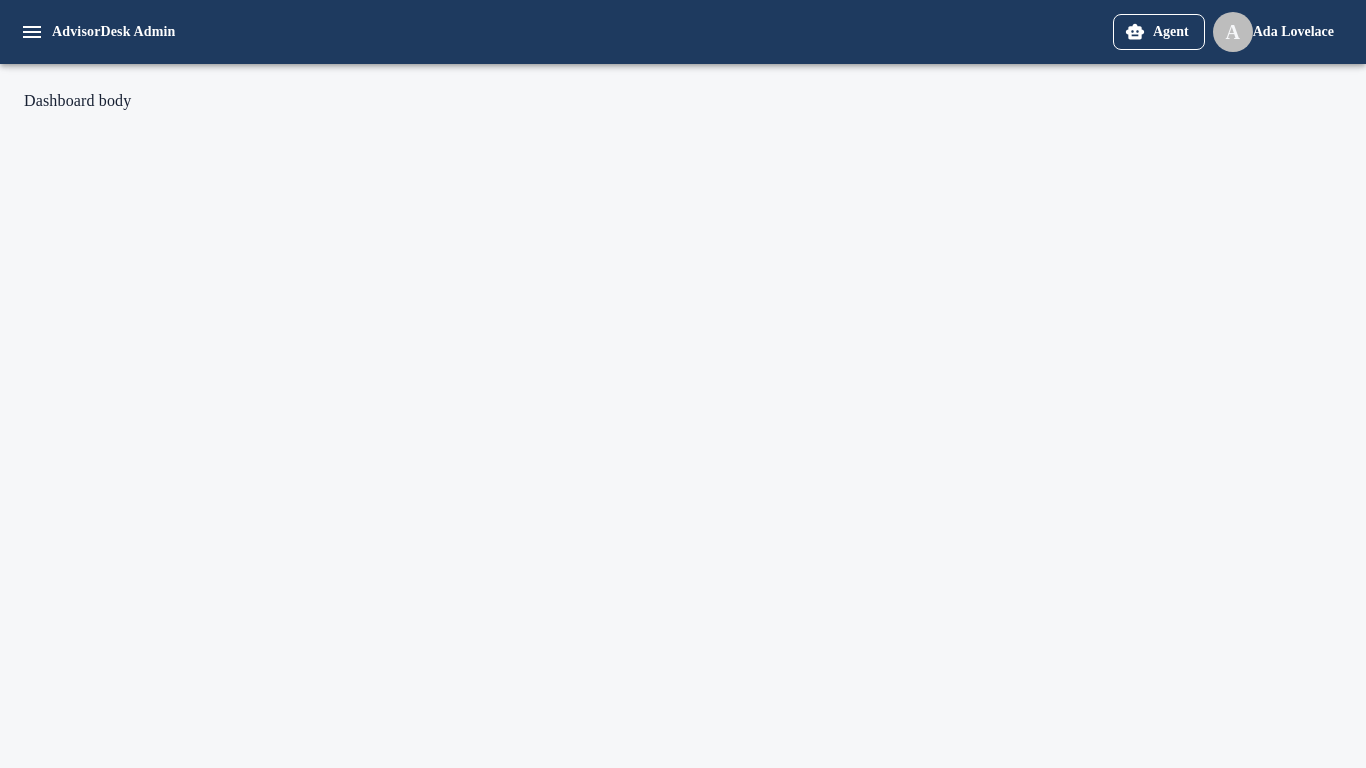
Scenario: AppShell below the md breakpoint › hides the nav behind an "Open navigation" button; it opens on click and closes after navigating
The width and height of the screenshot is (1366, 768).
Expected: the text "Dashboard body" is shown, [24, 92, 131, 109]
Click the button named "Open navigation".
click(32, 32)  # box [12, 12, 52, 52]
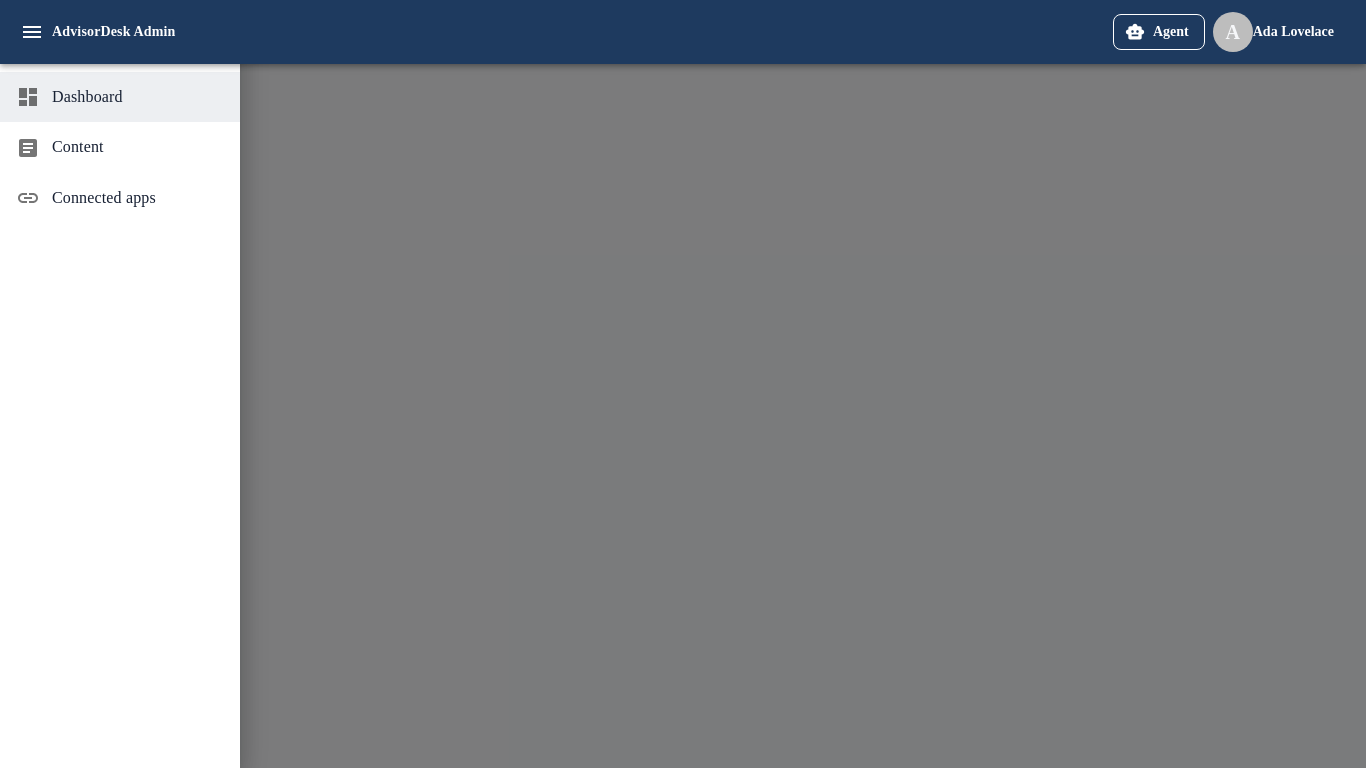
Now the link "Content" is shown
Click the link "Content".
click(60, 148)  # box [16, 136, 104, 160]
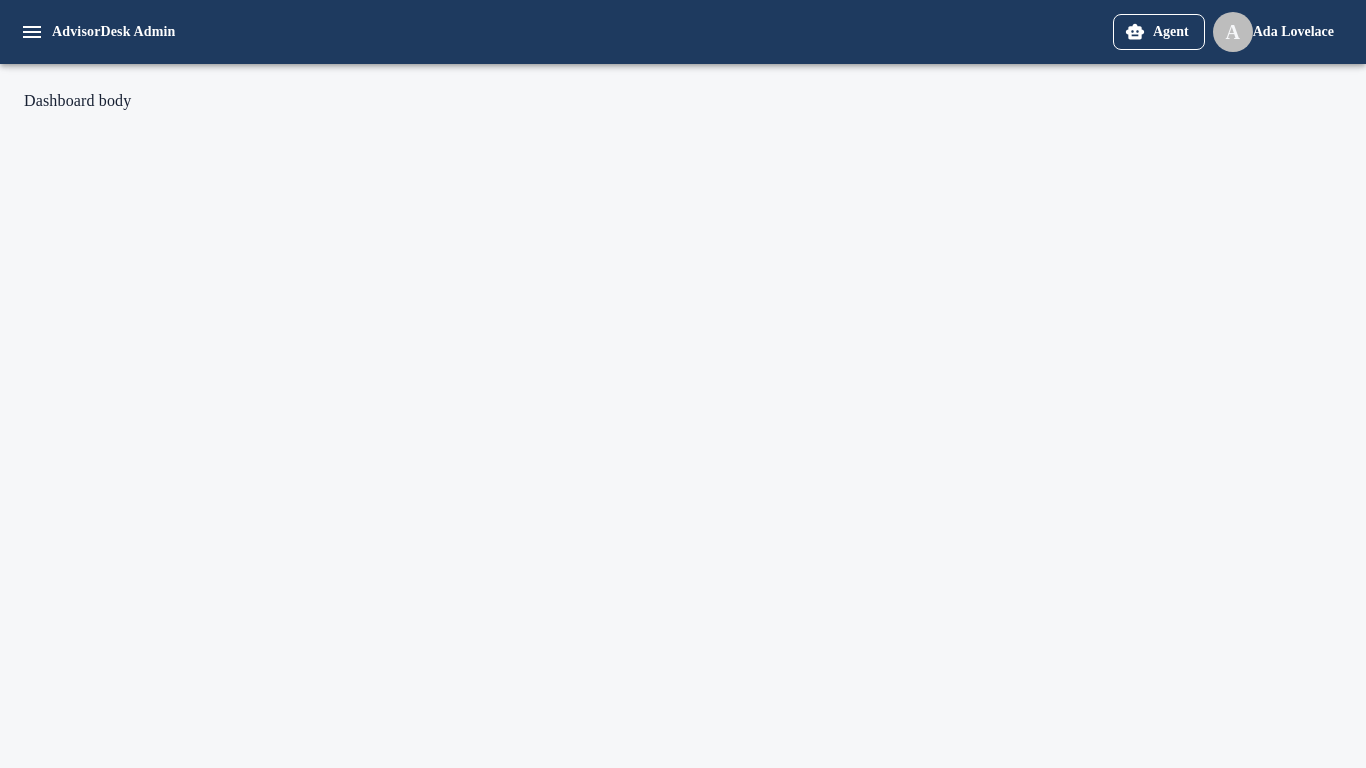
Now the navigation bar "Main" is gone
